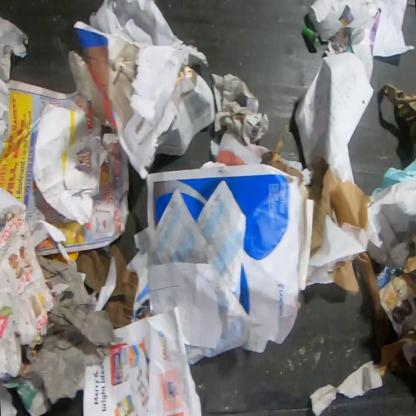cardboard: (357, 251, 389, 347)
soft_plastic: (66, 51, 110, 126), (371, 157, 415, 197)
